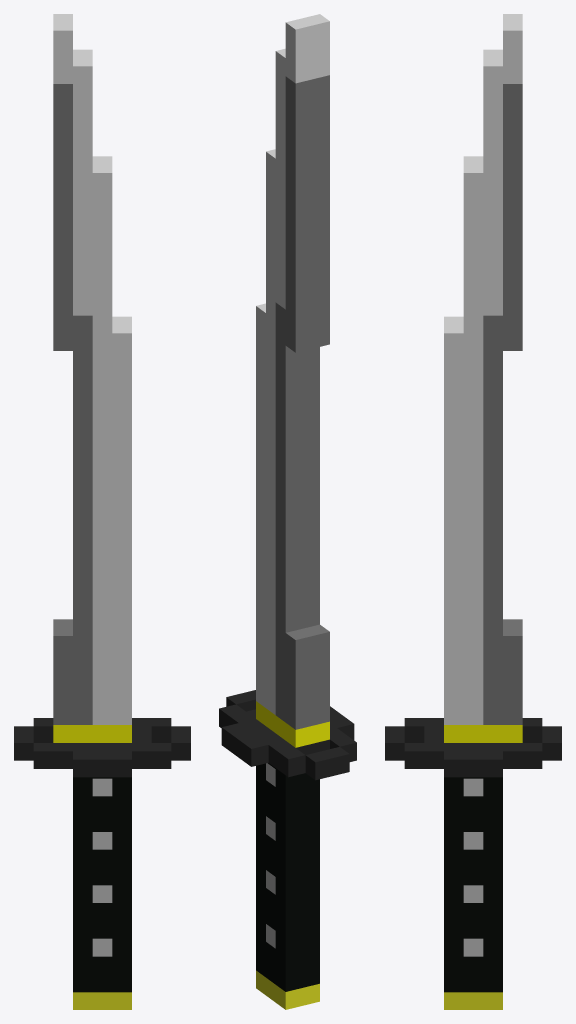
File: katana.obj
3 renders of one model, left to right at view 1: azimuth 90°, elevation 25°; view 2: azimuth 210°, elevation 25°; view 3: azimuth 270°, elevation 25°, orthographic.
Bounding box in the file's own units: 0.6 × 5.5 × 0.9.
1 material, 1 textured.
